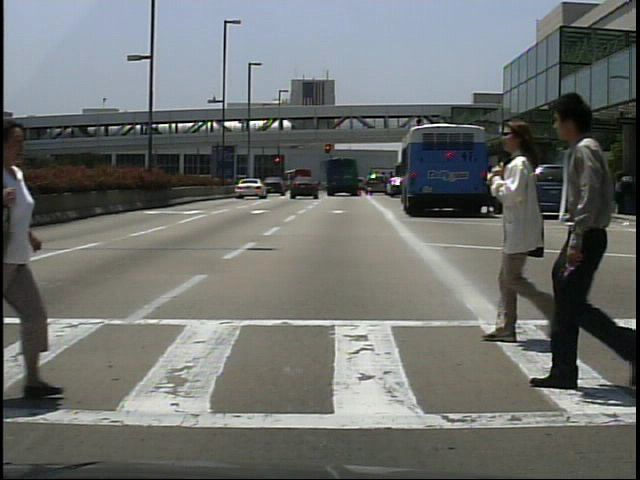person: (524, 77, 640, 395), (468, 117, 570, 349), (582, 168, 602, 218), (484, 162, 502, 215), (506, 166, 523, 216)
